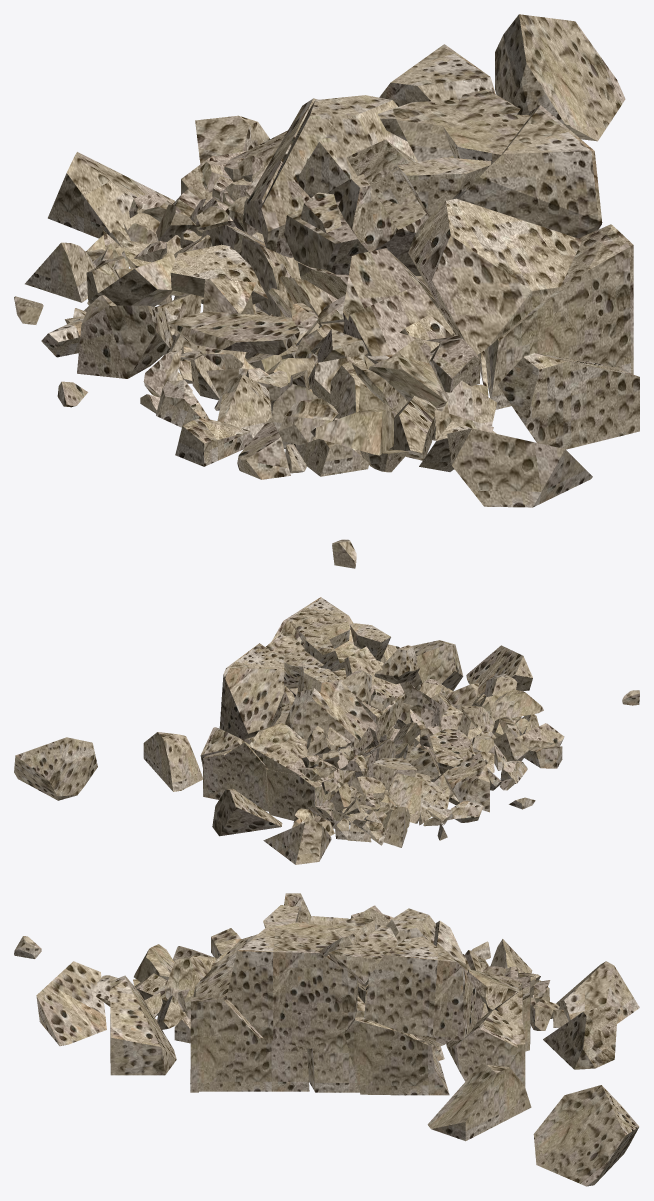
File: rocks4.fbx
The picture shows the model from 3 angles, top to bottom: view 1: azimuth 30°, elevation 25°; view 2: azimuth 150°, elevation 25°; view 3: azimuth 270°, elevation 25°; orthographic projection. The views are drawn at different scales.
Visible parts, largest first — view 1: Piece_37_2, Piece_35_2, Piece_15_2, Piece_0_19, Piece_36_2, Piece_38_2, Piece_20_2, Piece_5_19, Piece_6_20, Piece_22_2, Piece_4_19, Piece_5_18 (+46 smaller); view 2: Piece_14_2, Piece_0_19, Piece_21_2, Piece_1_20, Piece_4_20, Piece_3_21, Piece_5_20, Piece_20_2, Piece_6_20, Piece_36_2, Piece_5_19, Piece_38_2 (+36 smaller); view 3: Piece_15_2, Piece_14_2, Piece_0_19, Piece_12_2, Piece_36_2, Piece_1_20, Piece_35_2, Piece_38_2, Piece_26_2, Piece_5_20, Piece_13_2, Piece_6_20 (+23 smaller).
Part boxes in pixels (x1,y1,x2,y2): Piece_37_2: (408, 198, 581, 354); Piece_35_2: (485, 224, 633, 409); Piece_15_2: (458, 105, 602, 238); Piece_0_19: (495, 14, 625, 141); Piece_36_2: (498, 353, 639, 449); Piece_38_2: (447, 428, 592, 507); Piece_20_2: (258, 95, 417, 257); Piece_5_19: (77, 305, 172, 378); Piece_6_20: (48, 152, 174, 238); Piece_22_2: (284, 191, 428, 275); Piece_4_19: (167, 311, 299, 354); Piece_5_18: (348, 284, 453, 356); Piece_14_2: (219, 643, 284, 739); Piece_0_19: (14, 737, 97, 800); Piece_21_2: (284, 688, 373, 768); Piece_1_20: (143, 732, 202, 791); Piece_4_20: (265, 768, 331, 820); Piece_3_21: (249, 723, 333, 778); Piece_5_20: (212, 788, 282, 836); Piece_20_2: (298, 665, 380, 748); Piece_6_20: (263, 820, 331, 864); Piece_36_2: (412, 640, 463, 690); Piece_5_19: (443, 752, 490, 812); Piece_38_2: (466, 645, 532, 694); Piece_15_2: (227, 928, 358, 1048); Piece_14_2: (364, 936, 484, 1040); Piece_0_19: (533, 1085, 639, 1186); Piece_12_2: (344, 1017, 435, 1095); Piece_36_2: (110, 975, 176, 1075); Piece_1_20: (427, 1064, 531, 1141); Piece_35_2: (190, 996, 260, 1092); Piece_38_2: (36, 961, 106, 1045); Piece_26_2: (200, 1036, 309, 1091); Piece_5_20: (543, 1006, 617, 1069); Piece_13_2: (446, 1009, 517, 1081); Piece_6_20: (556, 961, 639, 1023).
Bounding box in the file's own units: 760 × 201 × 807.
Materials: 1 (1 with a texture image).
